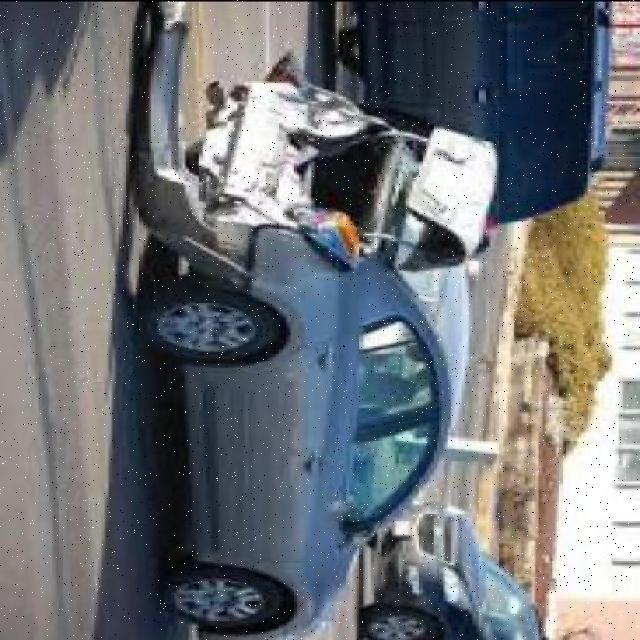damage: (136, 3, 495, 325)
